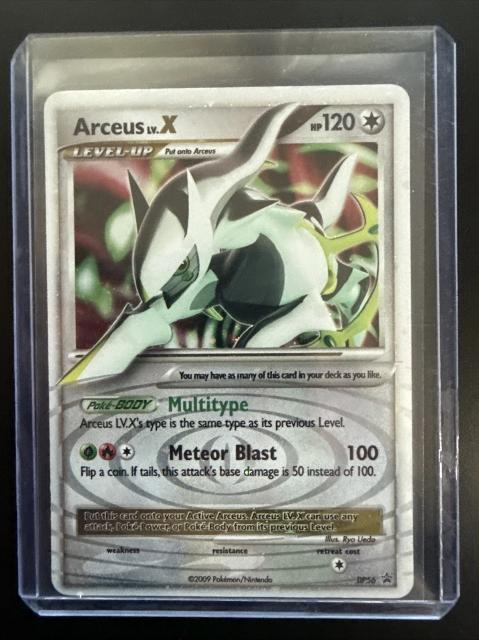Card: (41, 80, 419, 600)
Name: (70, 111, 186, 139)
